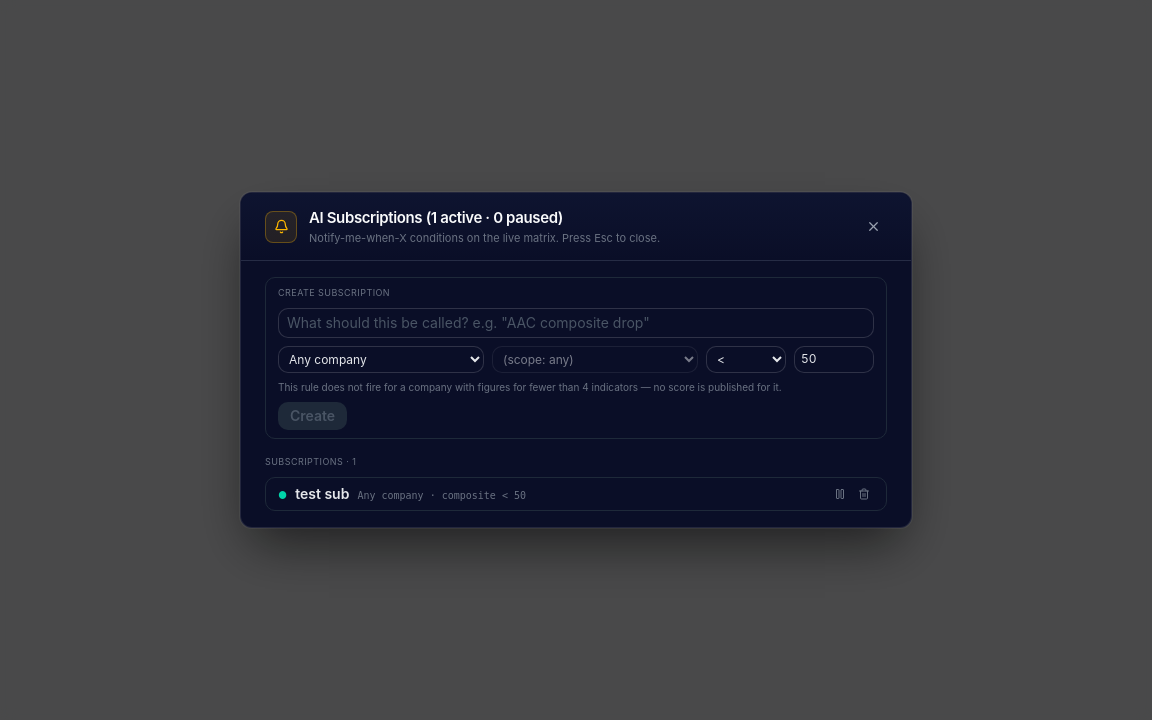
Scenario: AISubscriptions (Tier-3 sub-30) › delete removes from list + persists
The width and height of the screenshot is (1152, 720).
Expected: the list item with test id "subscriptions-row-s1" is shown, [265, 477, 887, 511]
Click the button with test id "subscriptions-delete-s1" at (864, 494), box [854, 486, 874, 502]
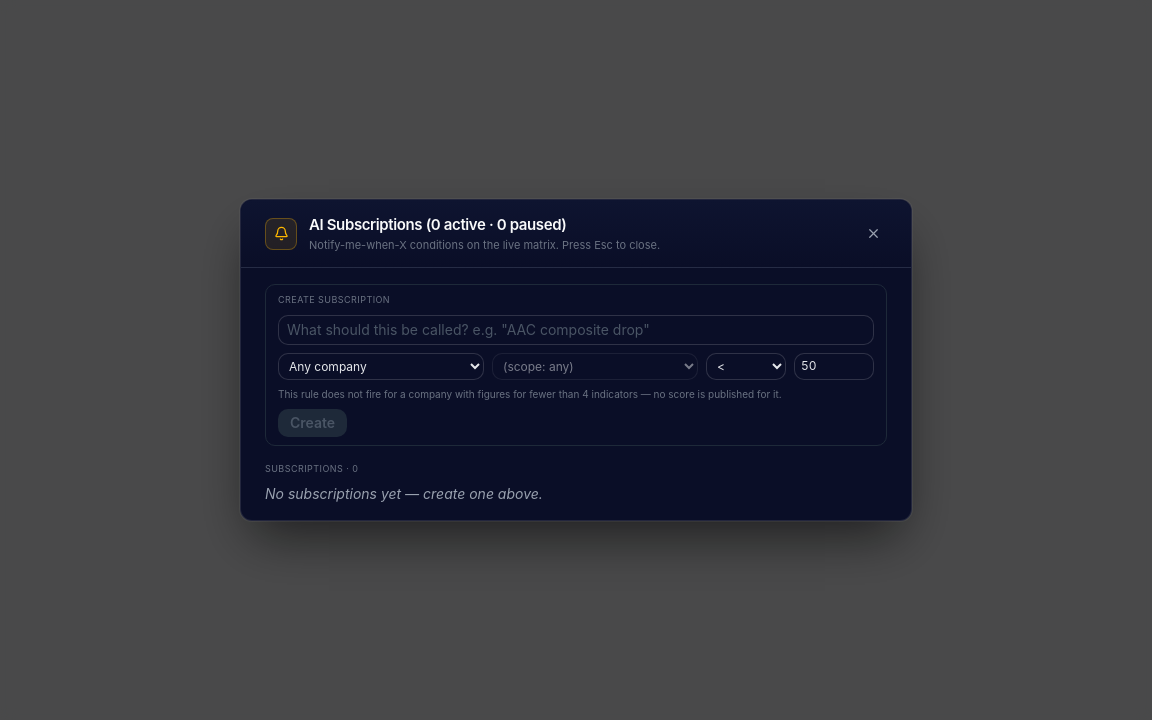
Now the list item with test id "subscriptions-row-s1" is gone
